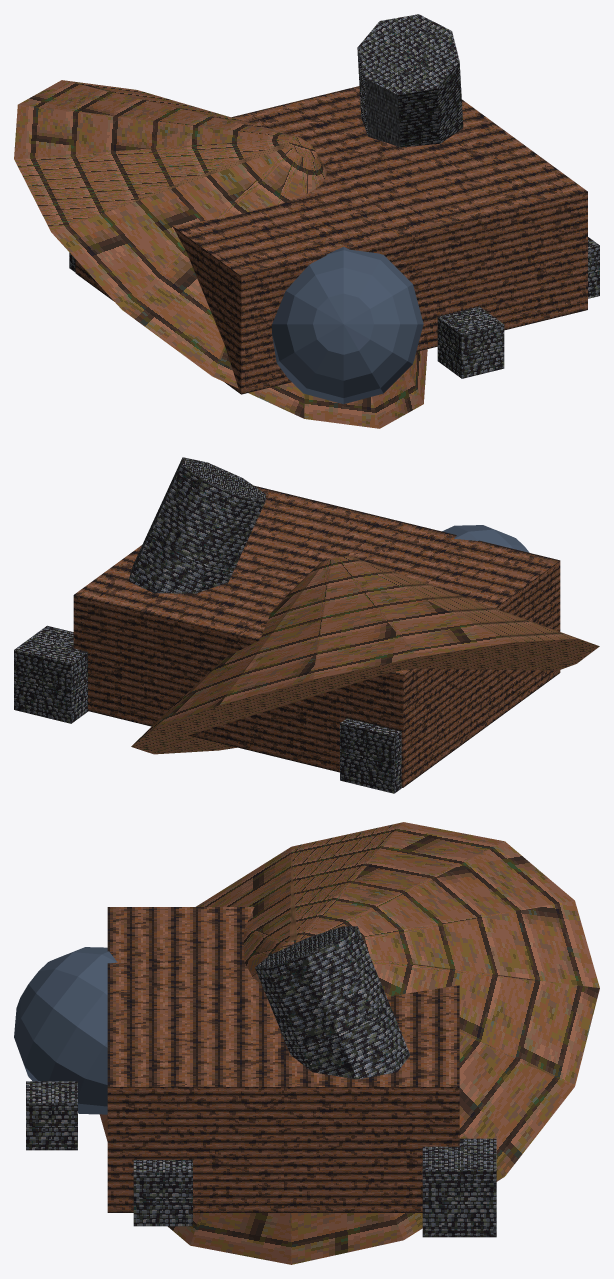
Rendered from cocina_ruina.glb.
The picture shows the model from 3 angles, top to bottom: view 1: azimuth 30°, elevation 25°; view 2: azimuth 150°, elevation 25°; view 3: azimuth 270°, elevation 25°; orthographic projection. The views are drawn at different scales.
Visible parts, largest first — view 1: Cube, Cone, Sphere, Cylinder, Cube.003, Cube.002; view 2: Cube, Cone, Cylinder, Cube.004, Cube.001, Sphere; view 3: Cube, Cone, Cylinder, Sphere, Cube.004, Cube.002, Cube.003.
Part boxes in pixels (x1=…): Cube: x1=75, y1=86, x2=587, y2=394; Cone: x1=14, y1=80, x2=427, y2=428; Sphere: x1=272, y1=246, x2=423, y2=404; Cylinder: x1=357, y1=14, x2=463, y2=147; Cube.003: x1=437, y1=306, x2=504, y2=378; Cube.002: x1=588, y1=237, x2=599, y2=298; Cube: x1=73, y1=485, x2=560, y2=787; Cone: x1=131, y1=556, x2=599, y2=754; Cylinder: x1=128, y1=457, x2=266, y2=593; Cube.004: x1=14, y1=625, x2=88, y2=723; Cube.001: x1=340, y1=718, x2=402, y2=793; Sphere: x1=442, y1=525, x2=529, y2=552; Cube: x1=107, y1=907, x2=459, y2=1212; Cone: x1=99, y1=822, x2=599, y2=1264; Cylinder: x1=255, y1=926, x2=410, y2=1079; Sphere: x1=14, y1=947, x2=117, y2=1114; Cube.004: x1=422, y1=1138, x2=496, y2=1237; Cube.002: x1=133, y1=1160, x2=192, y2=1226; Cube.003: x1=26, y1=1081, x2=77, y2=1150.
Size of the model in its own units: 3.29 by 2.04 by 3.16.
4 materials, 3 textured.
